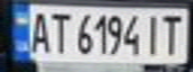1: (90, 11, 109, 55)
4: (121, 11, 145, 56)
6: (72, 10, 93, 55)
9: (106, 11, 127, 56)
A: (24, 8, 54, 54)
I: (142, 11, 166, 56)
T: (45, 9, 72, 55), (160, 11, 187, 56)
